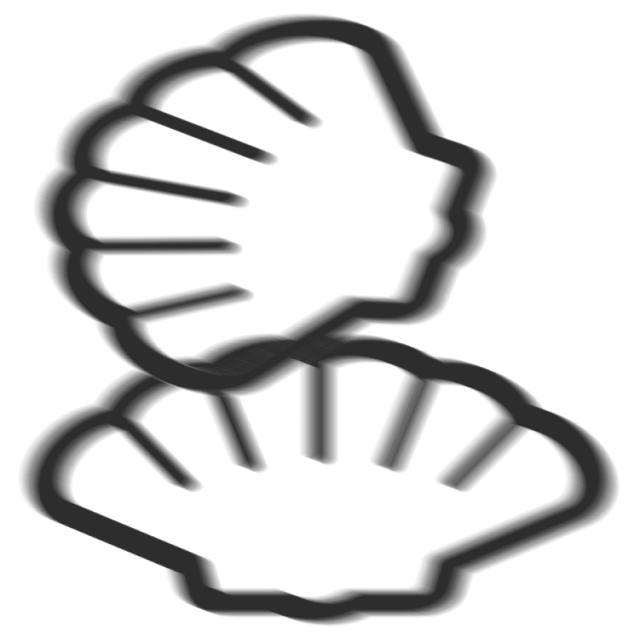shell: (14, 323, 629, 640), (25, 9, 512, 408)
